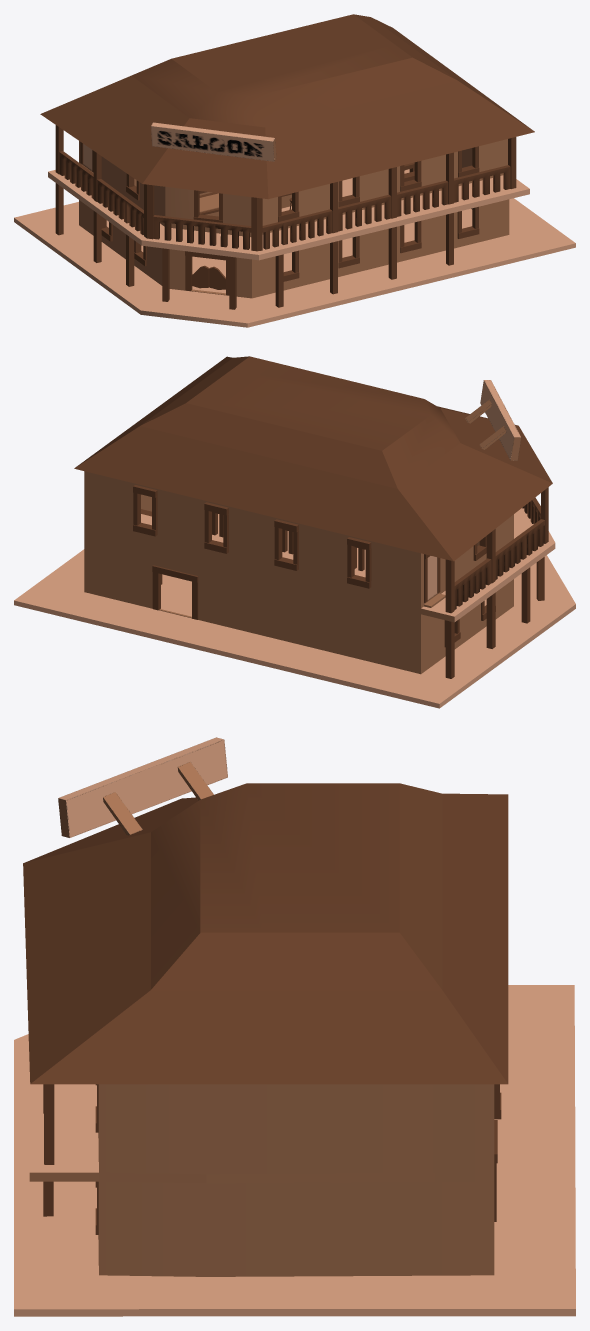
Rendered from saloon_building_v01.fbx.
3 renders of one model, top to bottom at view 1: azimuth 30°, elevation 25°; view 2: azimuth 150°, elevation 25°; view 3: azimuth 270°, elevation 25°, orthographic. The views are drawn at different scales.
Parts seen in each view (by area): view 1: Roof, GroundFloor, SecondFloor, Outside_SecondFloor_Railings, OutsideLowerPosts, SingPost, DoorFrame4, Bar, WindowFrame4, WindowFrame3, WindowFrame5, WindowFrame10 (+2 smaller); view 2: Roof, GroundFloor, SecondFloor, Outside_SecondFloor_Railings, OutsideLowerPosts, SingPost, DoorFrame2, WindowFrame14, WindowFrame15, WindowFrame12, WindowFrame13, INside_SecondFloor_Railings; view 3: Roof, GroundFloor, SecondFloor, SingPost, Outside_SecondFloor_Railings.
Part boxes in pixels (bbox=[...]): Roof: bbox=[40, 14, 534, 199]; GroundFloor: bbox=[14, 149, 575, 327]; SecondFloor: bbox=[48, 139, 529, 260]; Outside_SecondFloor_Railings: bbox=[55, 125, 516, 251]; OutsideLowerPosts: bbox=[55, 183, 453, 309]; SingPost: bbox=[151, 122, 276, 161]; DoorFrame4: bbox=[185, 251, 229, 295]; Bar: bbox=[199, 193, 291, 216]; WindowFrame4: bbox=[400, 221, 421, 253]; WindowFrame3: bbox=[338, 236, 359, 268]; WindowFrame5: bbox=[457, 206, 479, 238]; WindowFrame10: bbox=[400, 161, 421, 191]; Roof: bbox=[74, 356, 552, 561]; GroundFloor: bbox=[14, 494, 575, 708]; SecondFloor: bbox=[84, 471, 555, 622]; Outside_SecondFloor_Railings: bbox=[445, 487, 548, 613]; OutsideLowerPosts: bbox=[445, 557, 544, 678]; SingPost: bbox=[465, 380, 521, 460]; DoorFrame2: bbox=[152, 565, 198, 619]; WindowFrame14: bbox=[274, 519, 298, 570]; WindowFrame15: bbox=[347, 537, 371, 588]; WindowFrame12: bbox=[133, 485, 157, 536]; WindowFrame13: bbox=[204, 502, 228, 553]; INside_SecondFloor_Railings: bbox=[212, 512, 365, 570]; Roof: bbox=[23, 783, 508, 1084]; GroundFloor: bbox=[14, 985, 575, 1316]; SecondFloor: bbox=[29, 1072, 494, 1183]; SingPost: bbox=[58, 737, 227, 837]; Outside_SecondFloor_Railings: bbox=[43, 1084, 54, 1164].
Bounding box in the file's own units: 19.03 × 8.08 × 13.93.
